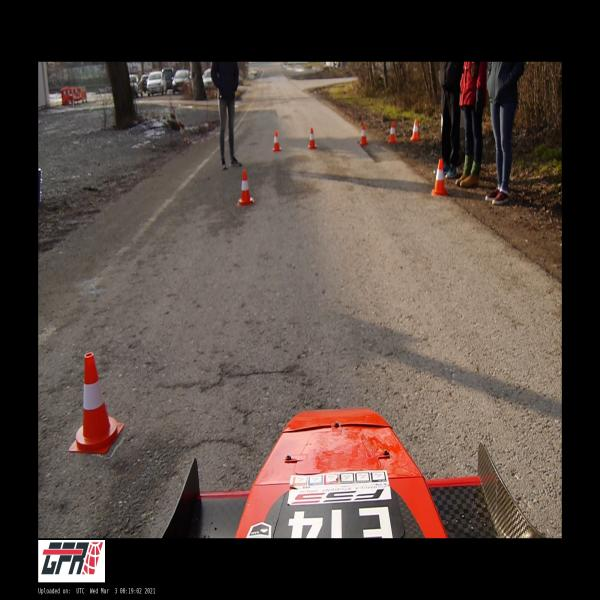orange_cone: (69, 353, 124, 453), (432, 160, 448, 195), (238, 171, 254, 205), (410, 119, 420, 140), (388, 121, 397, 143), (308, 128, 317, 149), (360, 123, 368, 145), (273, 131, 281, 151)
